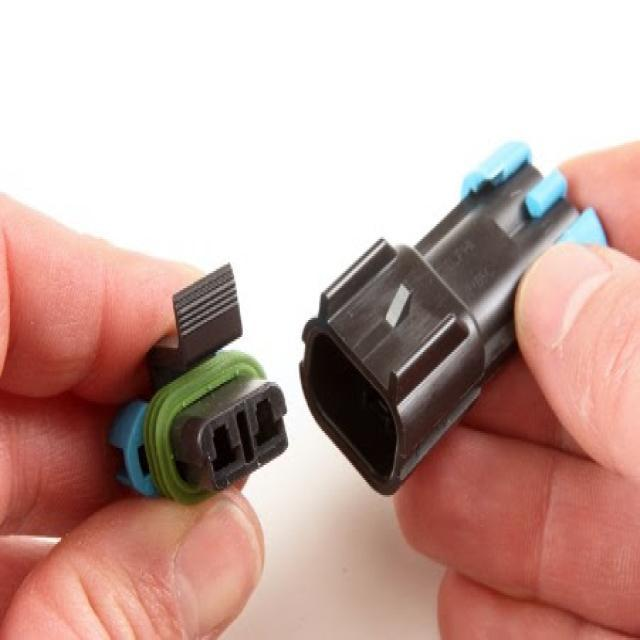connector: (300, 142, 586, 497), (111, 267, 289, 506)
